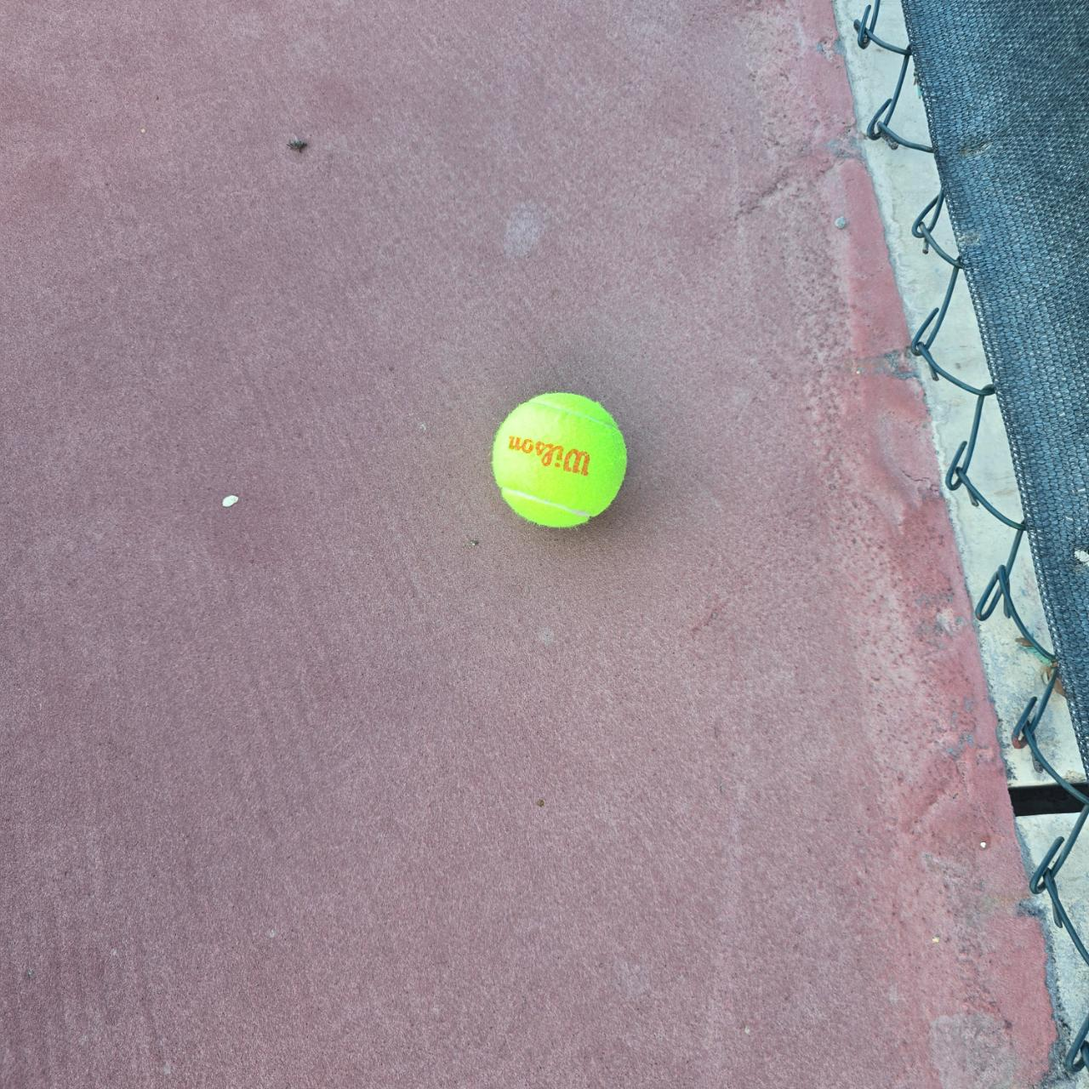tennis-ball: (487, 389, 629, 529)
